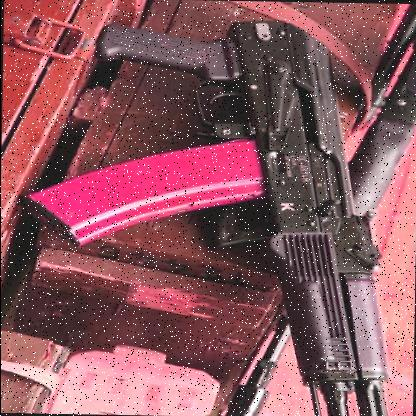rifle: (74, 12, 402, 416)
